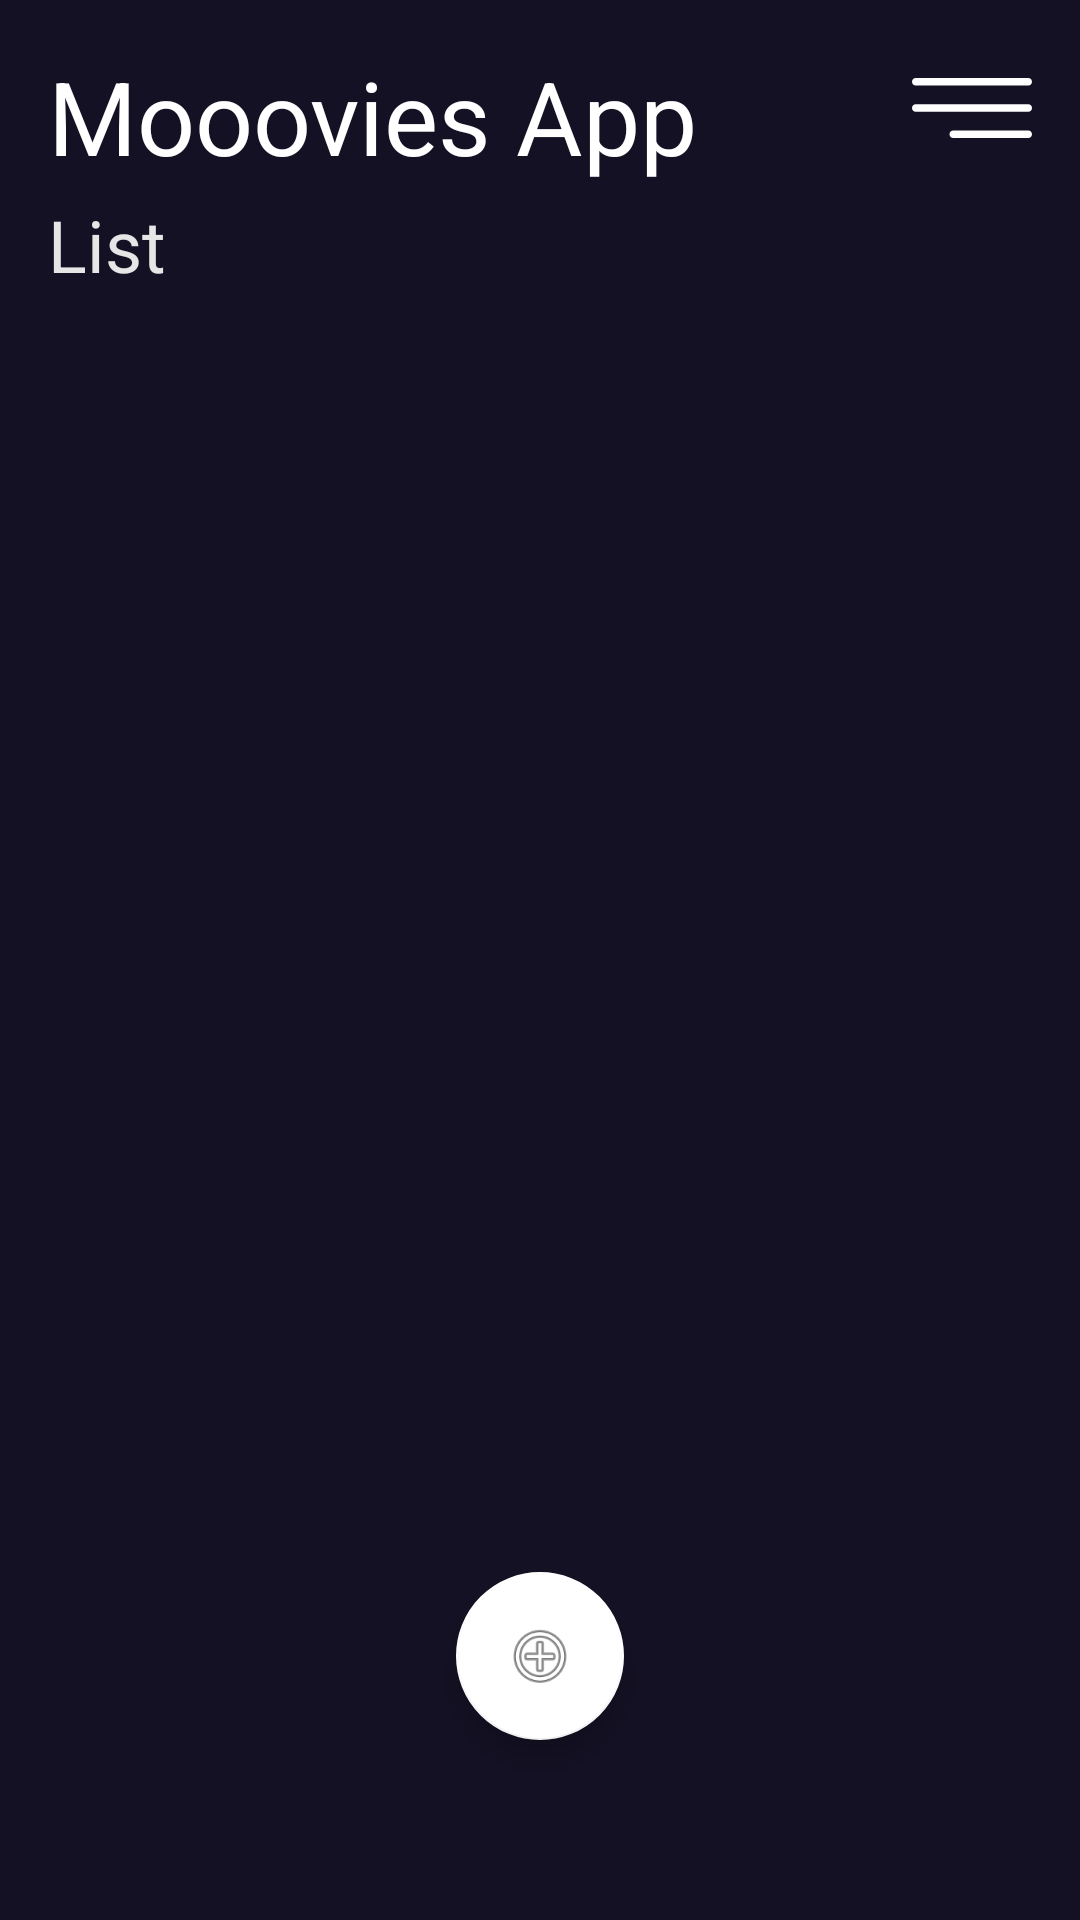

Locate icon controls on the screen. Image size 1080w x 1920h, boxes as (x1, y1, x2, y2).
Add Movie: (456, 1572, 624, 1740)
menu: (912, 78, 1032, 138)
